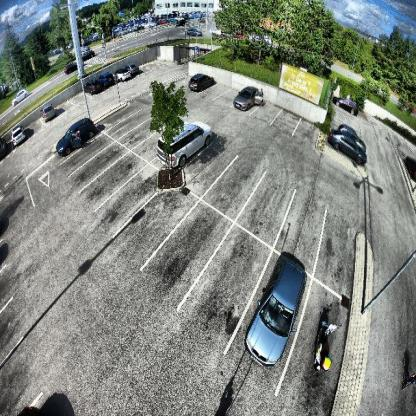free: (307, 295, 346, 381), (325, 221, 359, 294), (214, 255, 249, 310), (178, 214, 214, 264), (292, 206, 322, 263), (251, 183, 285, 230), (145, 202, 173, 247), (222, 164, 251, 204), (120, 179, 149, 215), (301, 117, 322, 145), (101, 164, 119, 193), (276, 108, 295, 135), (144, 128, 158, 160), (131, 122, 147, 140), (75, 147, 94, 162), (88, 158, 103, 177), (122, 117, 138, 133), (220, 89, 234, 107), (259, 106, 274, 120), (106, 107, 118, 124), (206, 86, 217, 99)
occupied: (255, 272, 298, 361), (165, 119, 210, 168), (60, 114, 96, 154), (331, 133, 363, 161), (238, 82, 261, 114), (186, 70, 215, 94), (7, 125, 27, 144), (39, 103, 58, 122)
